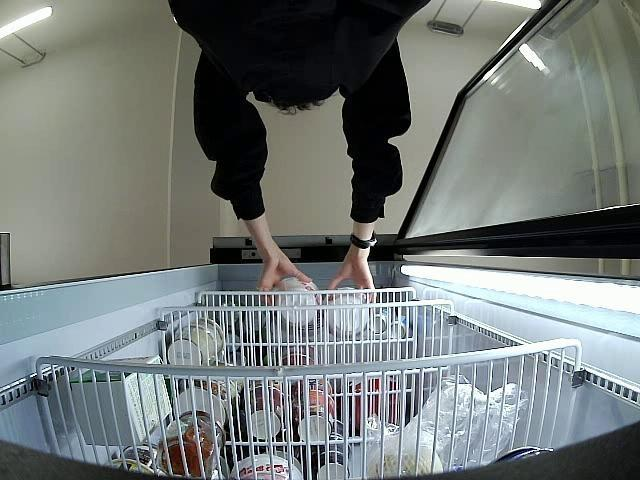09_yukGaeJang: (272, 276, 324, 326), (322, 286, 370, 338)
